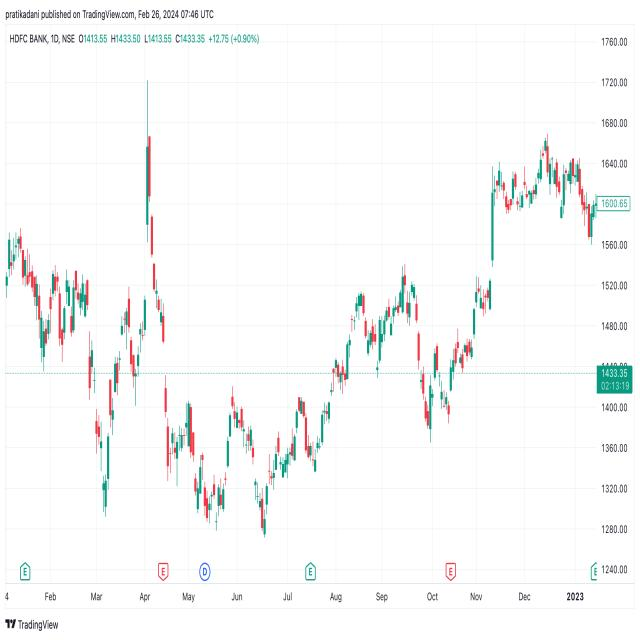Gap Down: (146, 126, 160, 301), (162, 298, 172, 434), (92, 366, 101, 458), (85, 276, 92, 390), (413, 289, 422, 374), (127, 288, 135, 376), (250, 429, 259, 504), (190, 427, 199, 496), (374, 318, 381, 383)
Gap Up: (485, 167, 501, 327), (447, 364, 457, 434), (222, 430, 232, 495), (326, 376, 338, 428), (118, 311, 124, 370)
